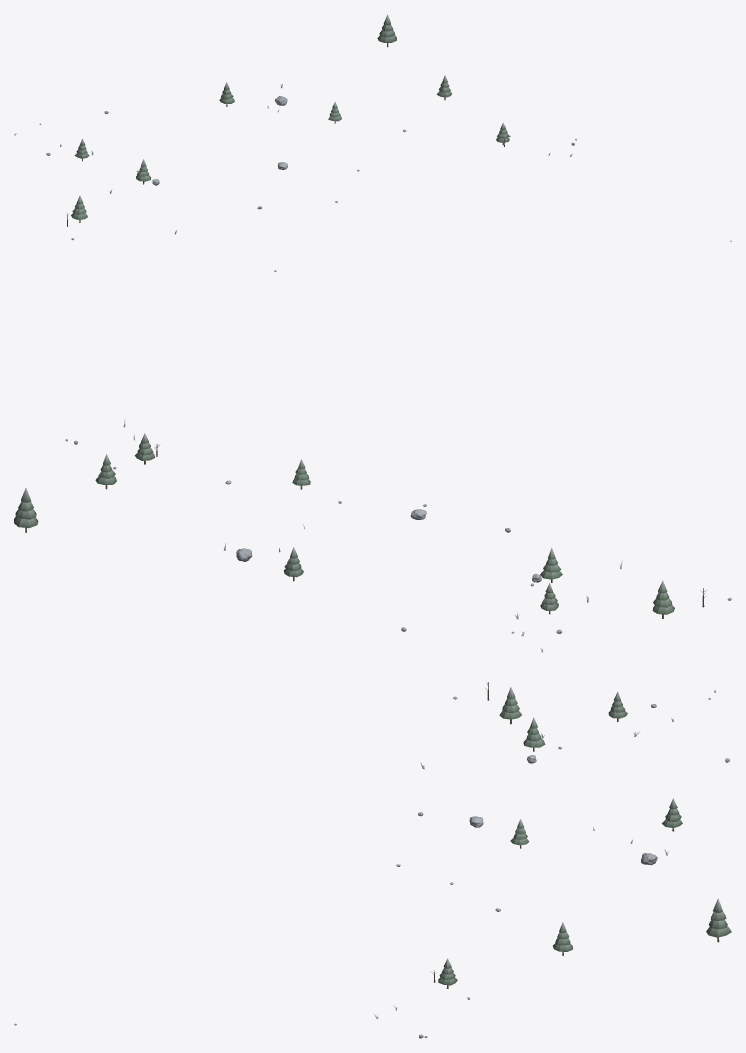
File: frost_land_scatter_c20_10.glb
3 renders of one model, top to bottom at view 1: azimuth 30°, elevation 25°; view 2: azimuth 150°, elevation 25°; view 3: azimuth 270°, elevation 25°, orthographic. The views are drawn at different scales.
Parts seen in each view (by area): view 1: frost_land_scatter_c20_10; view 2: frost_land_scatter_c20_10; view 3: frost_land_scatter_c20_10.
Boxes of the visible parts, x1,y1,x2,y2 form: frost_land_scatter_c20_10: (14, 14, 731, 241); frost_land_scatter_c20_10: (14, 270, 731, 652); frost_land_scatter_c20_10: (14, 682, 731, 1038).
Size of the model in its own units: 253 by 33.28 by 237.
